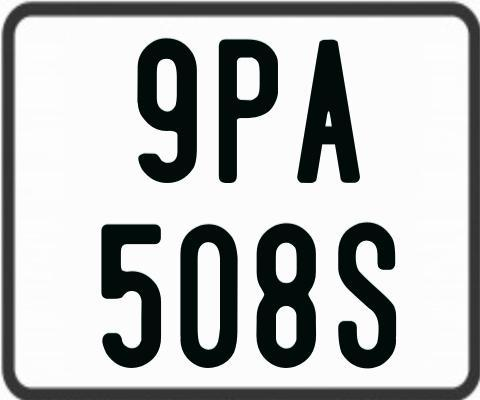0: (177, 221, 238, 365)
5: (101, 223, 162, 371)
8: (254, 223, 314, 372)
9: (134, 38, 200, 183)
A: (295, 37, 361, 185)
P: (216, 36, 278, 185)
S: (336, 221, 399, 369)
